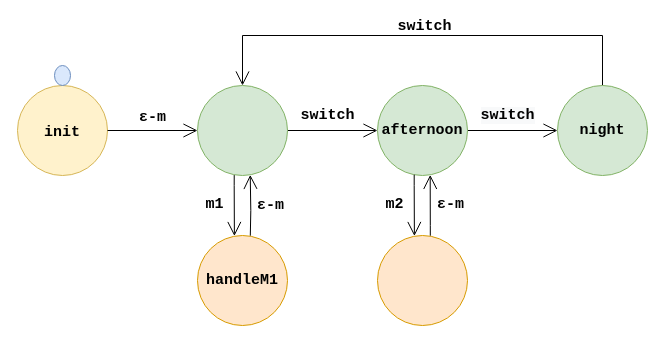
This 665x343 diagram has some shape labels left out. The centre of each missing label's shape, as x and y in pixels:
handleM2: the point at 422,280
morning: the point at 242,130
